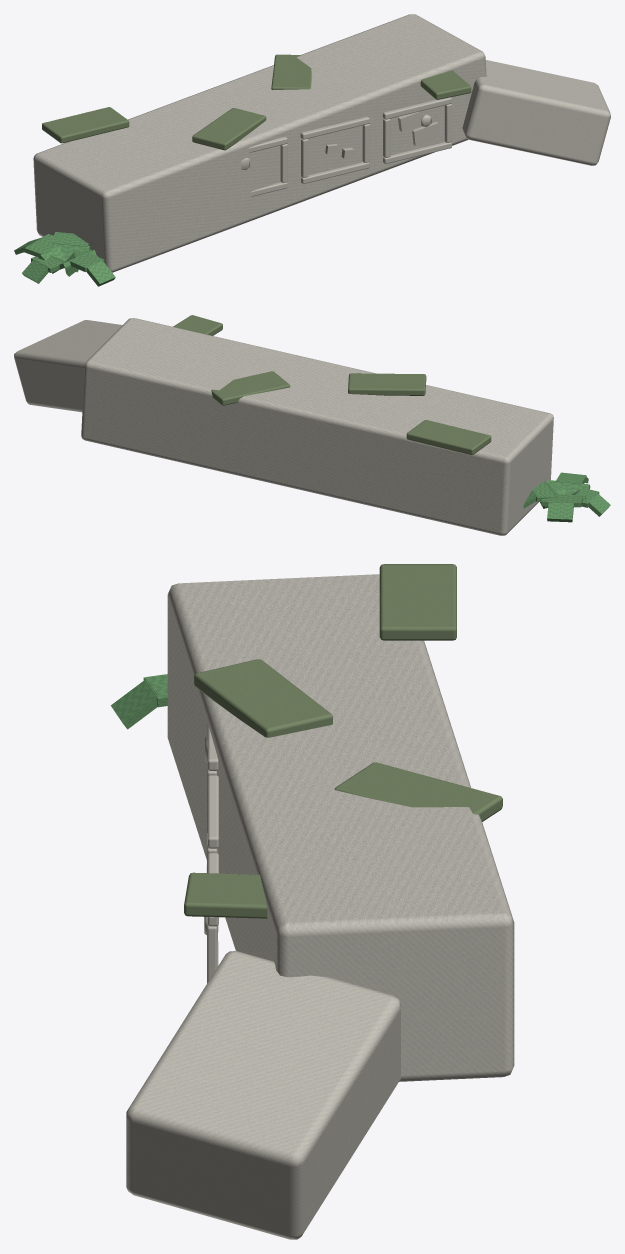
File: jungle-temple-and-stone-city-fallen-lintel-block-4e0ef3a7__36122.glb
The picture shows the model from 3 angles, top to bottom: view 1: azimuth 30°, elevation 25°; view 2: azimuth 150°, elevation 25°; view 3: azimuth 270°, elevation 25°; orthographic projection. The views are drawn at different scales.
Visible parts, largest first — view 1: fallen-lintel-block; view 2: fallen-lintel-block; view 3: fallen-lintel-block.
Boxes of the visible parts, x1,y1,x2,y2 form: fallen-lintel-block: (14, 14, 610, 286); fallen-lintel-block: (14, 315, 610, 535); fallen-lintel-block: (111, 564, 514, 1239).
Bounding box in the file's own units: 3.42 × 0.6251 × 1.04.
Materials: 3 (3 with a texture image).
